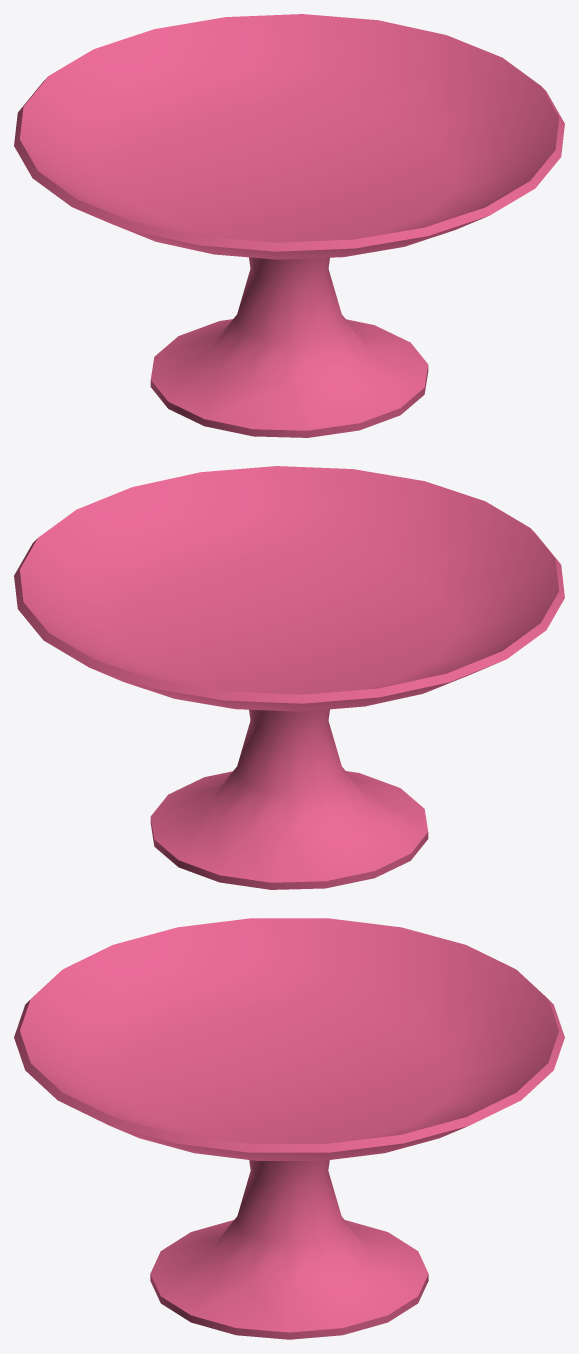
Rendered from Tableware_V6_4.fbx.
3 views of the same model, one above another, from view 1: azimuth 30°, elevation 25°; view 2: azimuth 150°, elevation 25°; view 3: azimuth 270°, elevation 25° (orthographic).
Visible parts, largest first — view 1: SM_Tableware_V6_4; view 2: SM_Tableware_V6_4; view 3: SM_Tableware_V6_4.
Part boxes in pixels (x1,y1,x2,y2): SM_Tableware_V6_4: [14, 14, 564, 437]; SM_Tableware_V6_4: [14, 466, 564, 889]; SM_Tableware_V6_4: [14, 918, 564, 1339].
Size of the model in its own units: 22.77 by 11.51 by 23.01.
